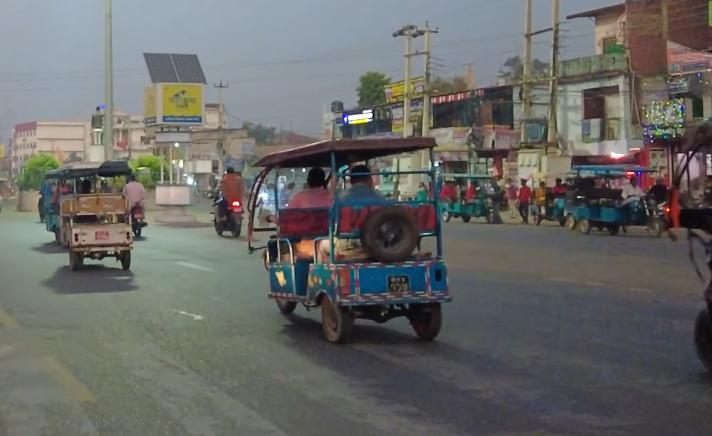bike: (210, 191, 243, 240)
e-rickshaw: (240, 124, 455, 351), (42, 149, 141, 276), (569, 160, 667, 238), (442, 166, 502, 225)
